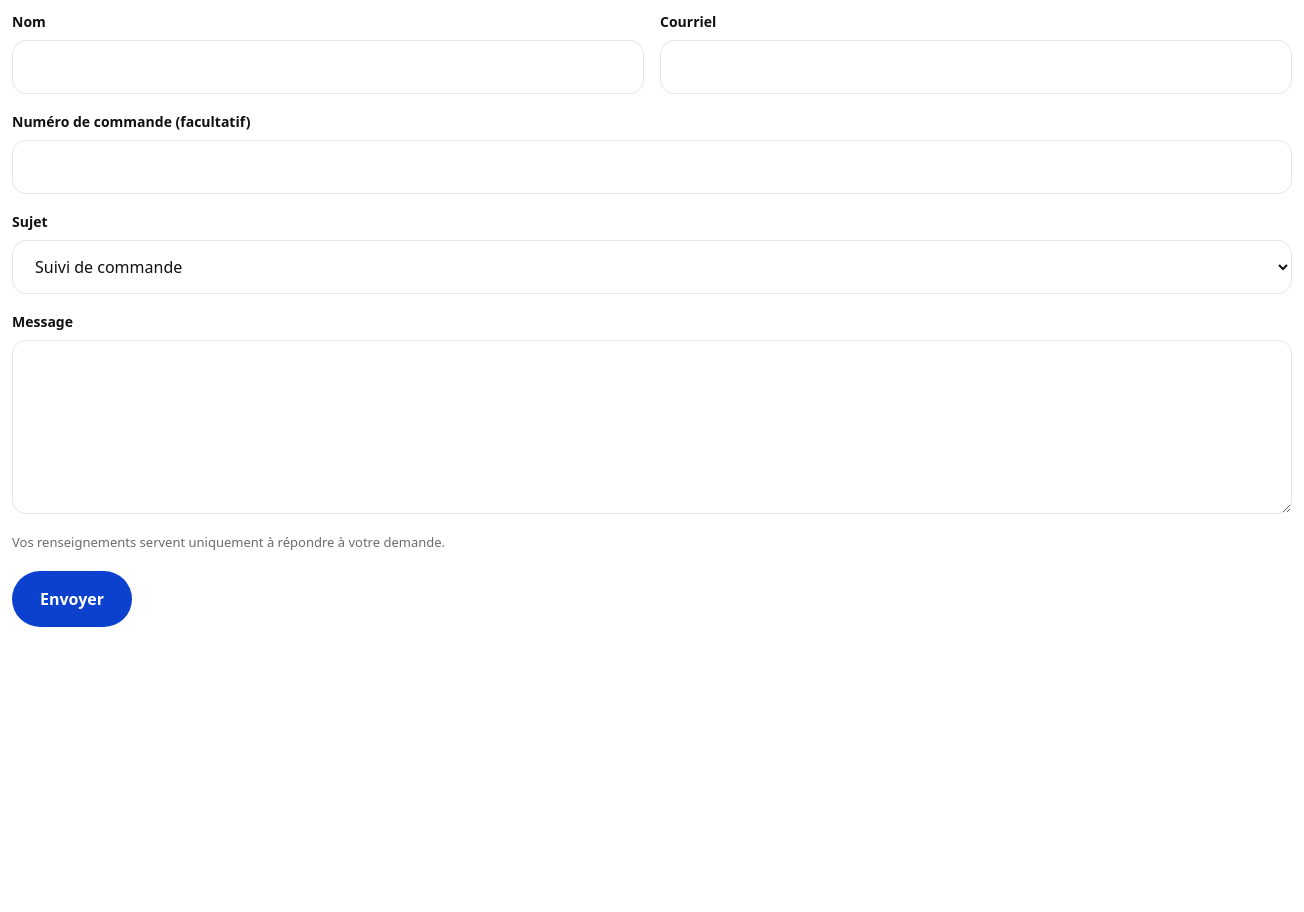
Test: FormulaireContact › dit honnêtement que l’envoi n’est pas encore branché
The width and height of the screenshot is (1304, 912).
Type "Camille Tremblay" into the field labelled "Nom" at [328, 67], box left=12, top=40, right=644, bottom=94
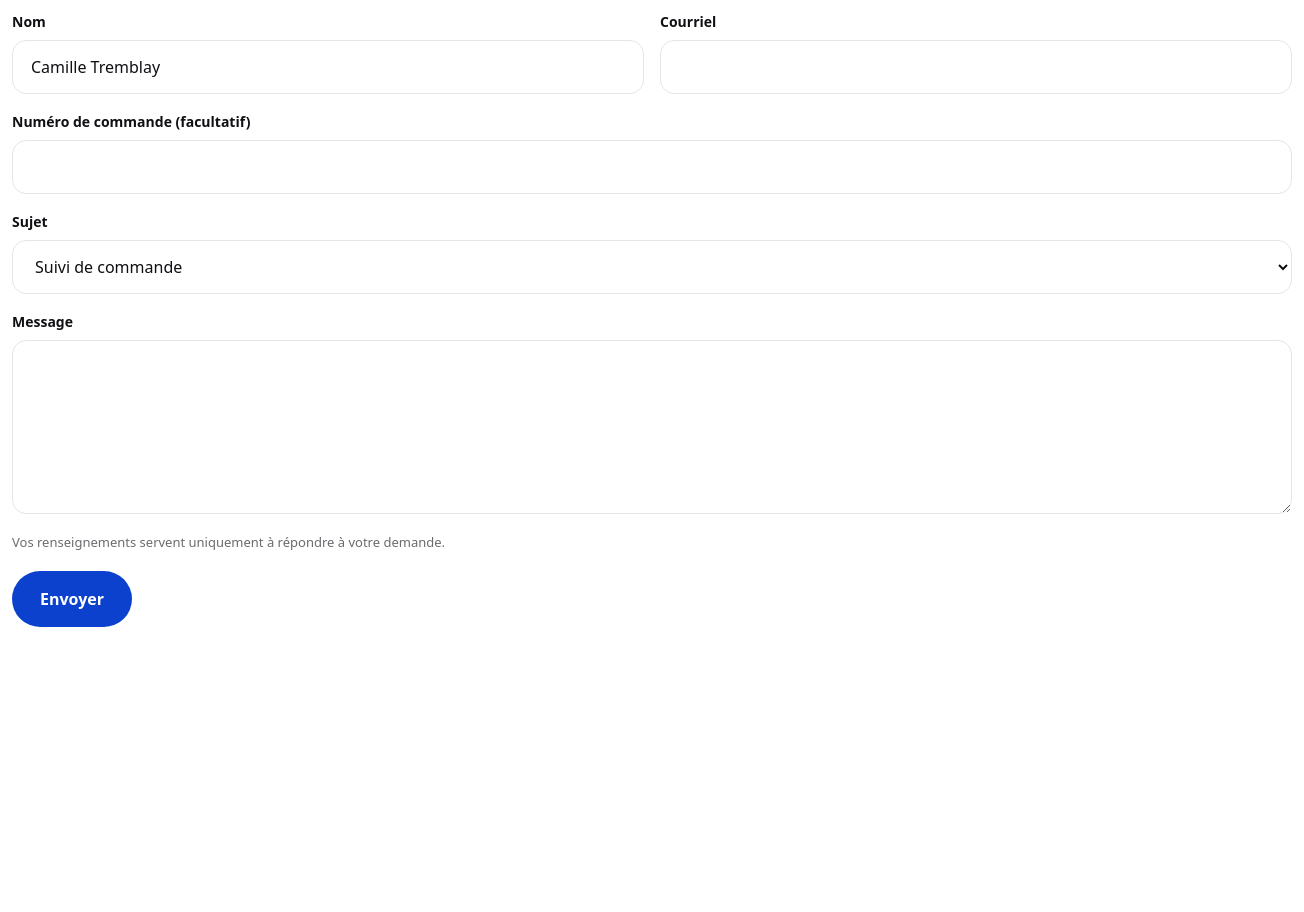
Type "camille@exemple.ca" into the field labelled "Courriel" at [976, 67], box left=660, top=40, right=1292, bottom=94
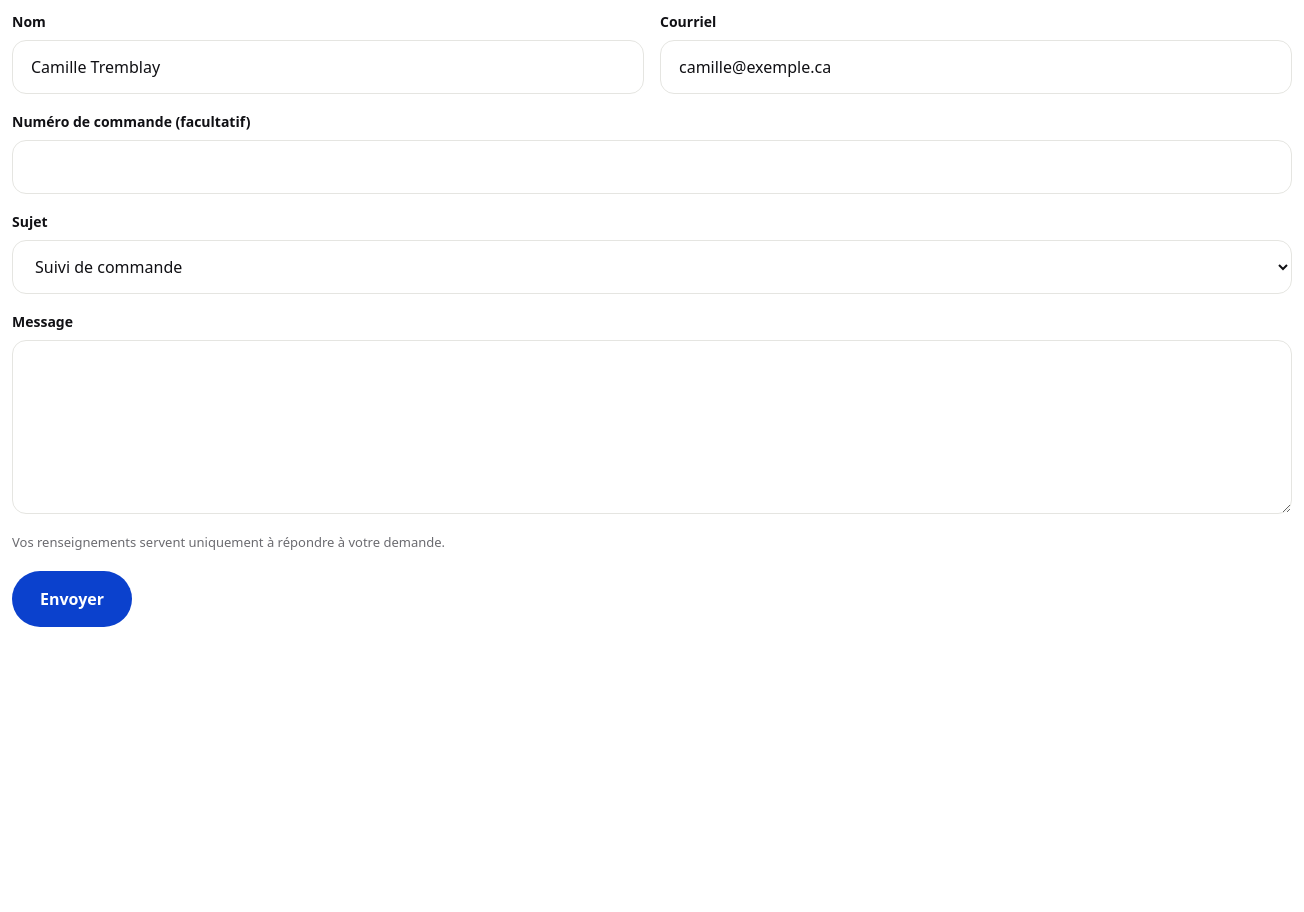
Type "Je voudrais échanger ma pointure 41 contre une 42." into the text box labelled "Message" at [652, 427], box left=12, top=340, right=1292, bottom=514
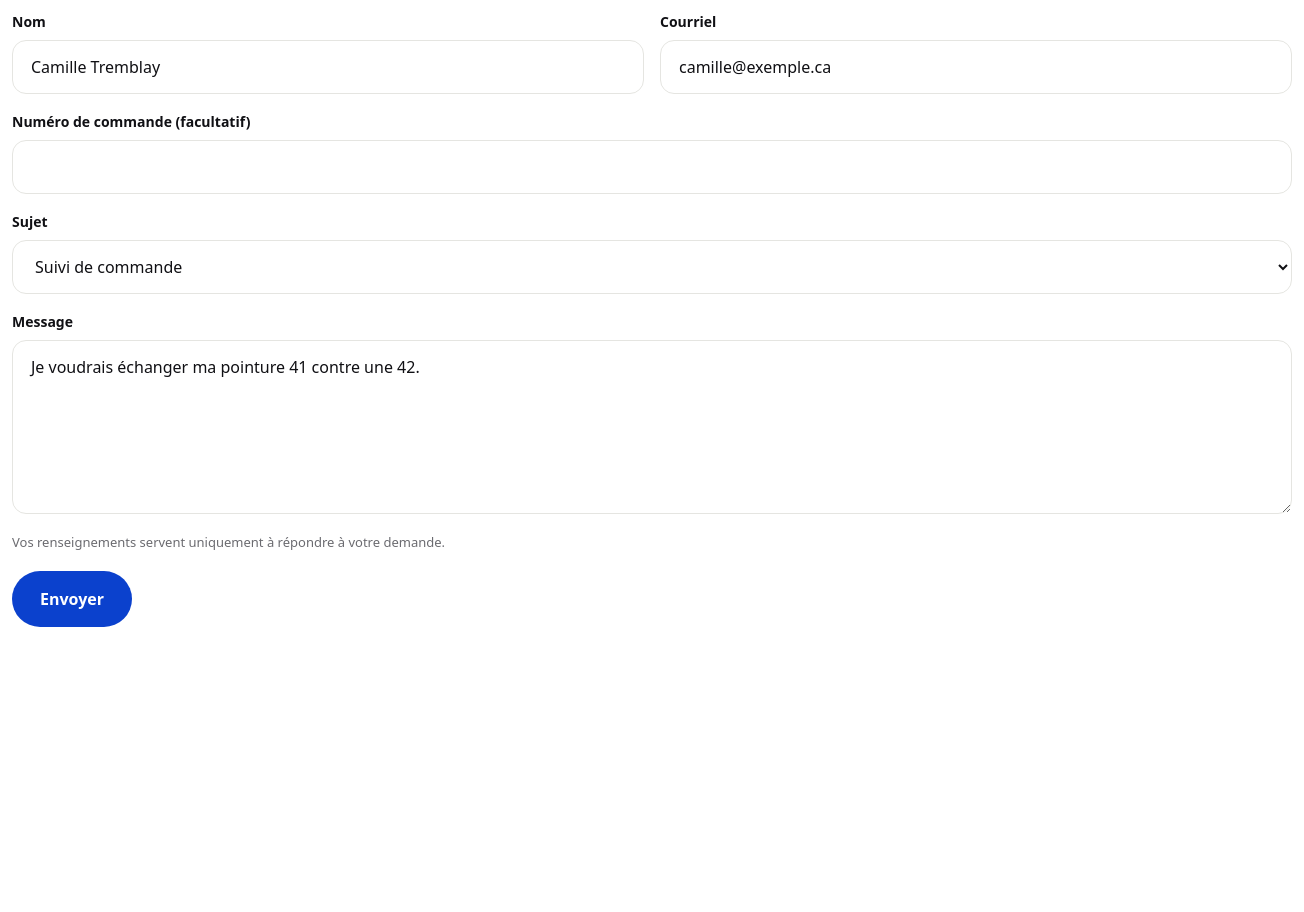
Click the button "Envoyer" at [72, 599], box left=12, top=571, right=132, bottom=627
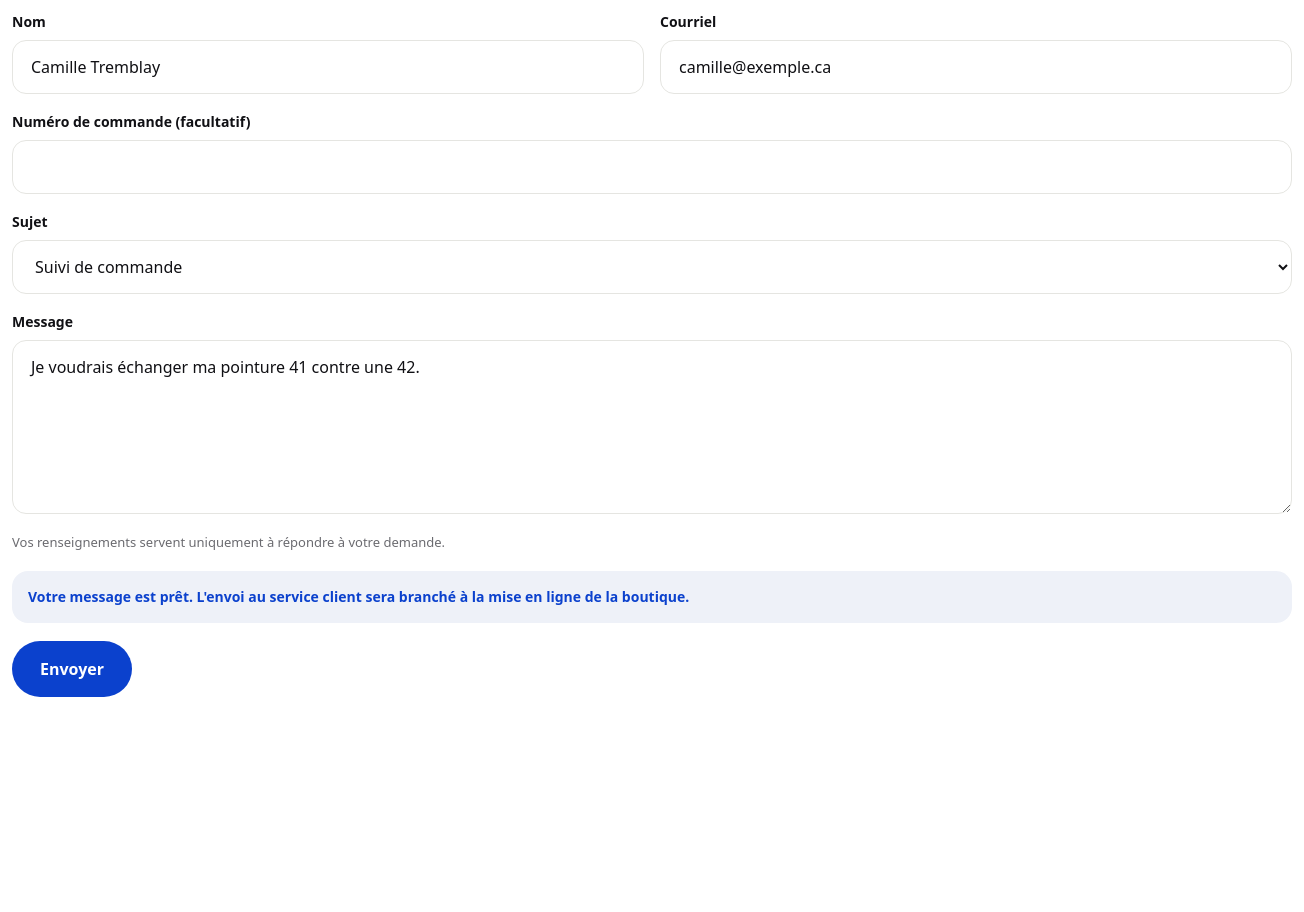
expect the message shows "Votre message est prêt. L'envoi au service client sera branché à la mise en ligne de la boutique.": met, box left=28, top=587, right=689, bottom=606
Replace the text in the text box labelled "Message" with "Autre chose encore à dire." at [652, 427], box left=12, top=340, right=1292, bottom=514
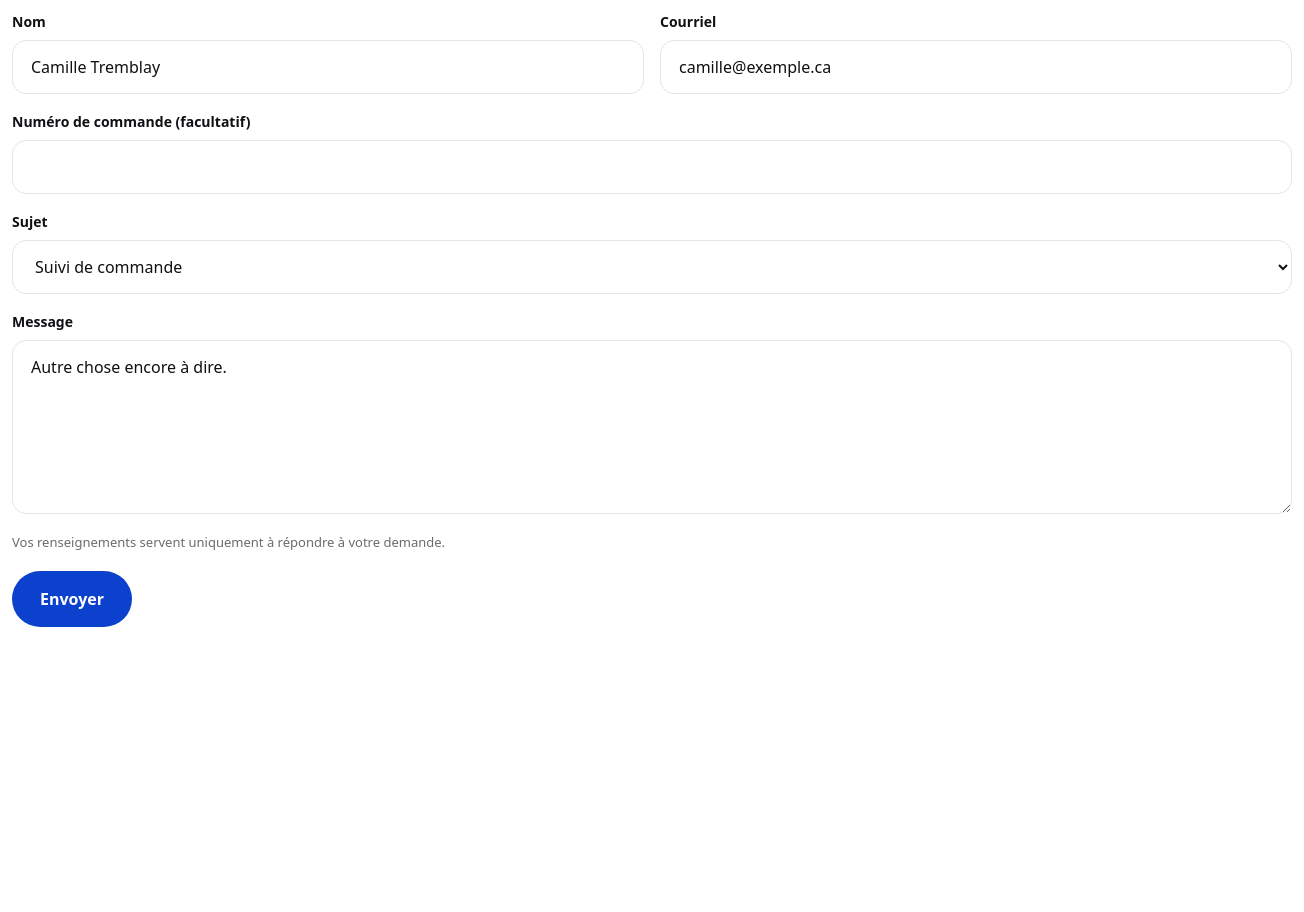
expect the message is gone: met
